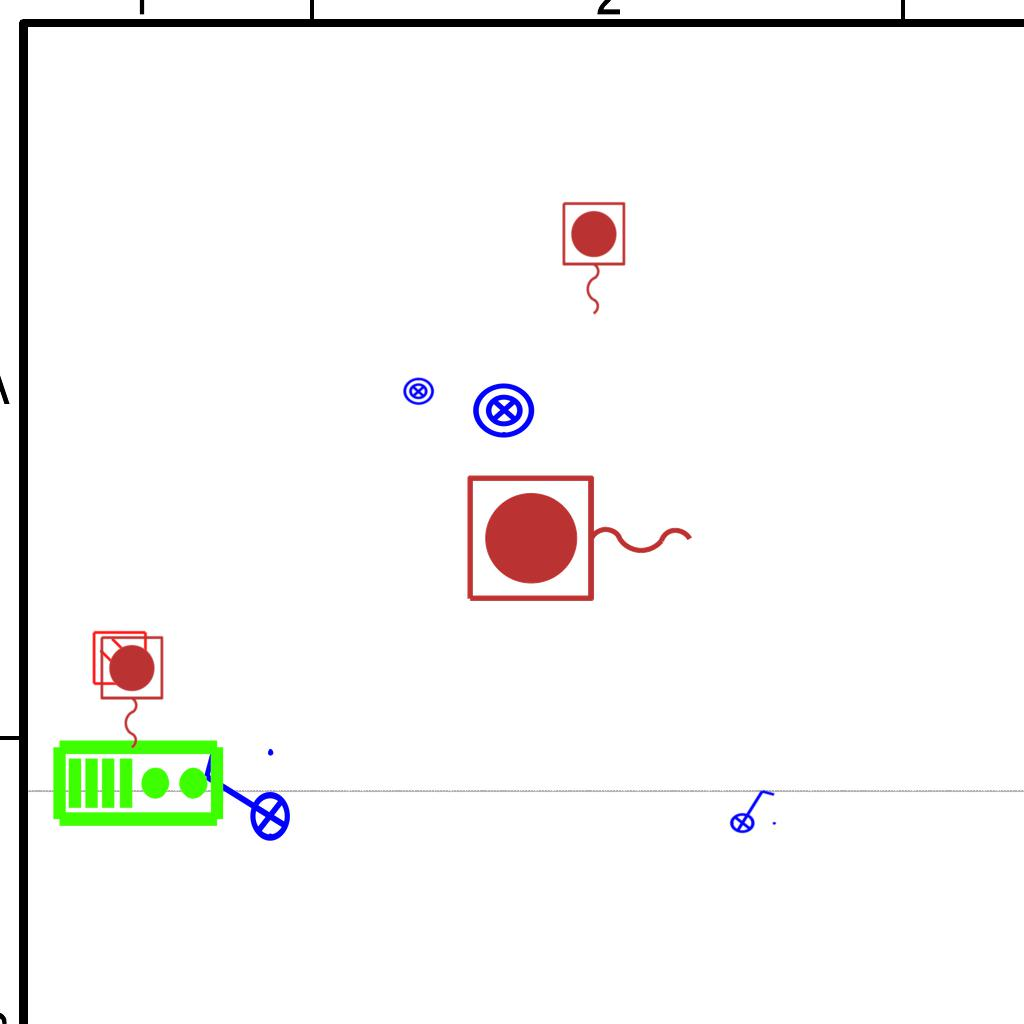Ausschalter_beleuchtet: (196, 743, 292, 855), (723, 786, 779, 834)
Gegensprechanlage_mit_Video: (51, 734, 227, 829)
RMO_Rauchmelder_optischer: (92, 630, 148, 686)
Taster_beleuchtet: (471, 377, 537, 443), (402, 375, 435, 408)
Zugtaster: (459, 468, 703, 612), (557, 198, 629, 320), (95, 632, 167, 754)
